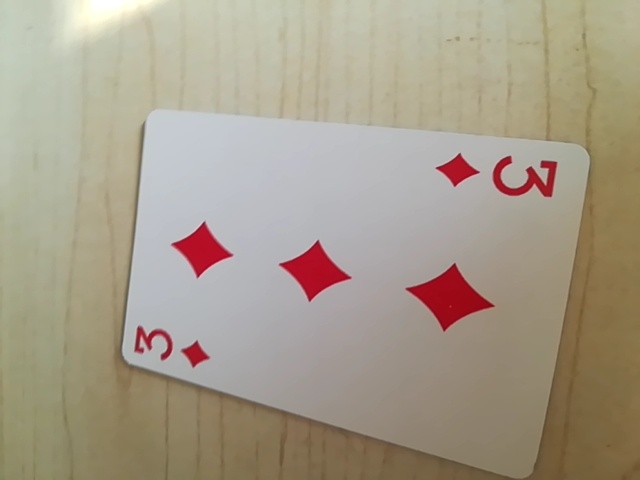fk 3: (435, 149, 559, 202), (128, 317, 217, 371)
